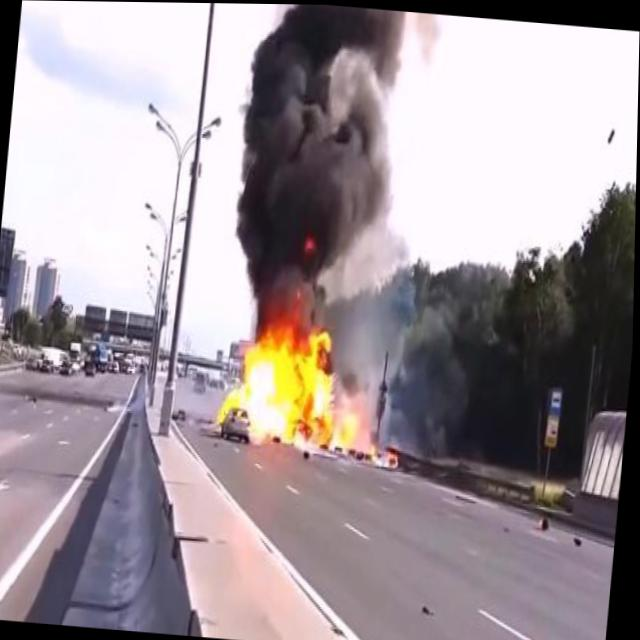fire: (216, 317, 344, 457), (338, 405, 370, 458), (385, 443, 403, 467)
